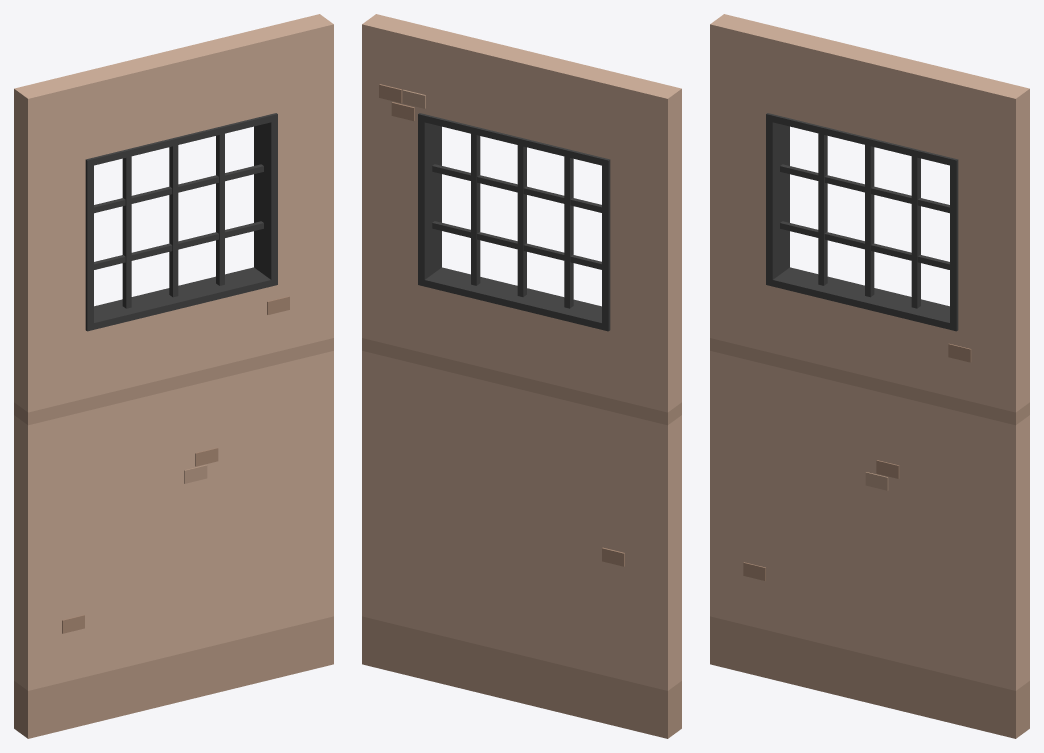
The model's file is Wall_03.fbx.
3 renders of one model, left to right at view 1: azimuth 30°, elevation 25°; view 2: azimuth 150°, elevation 25°; view 3: azimuth 330°, elevation 25°, orthographic.
Parts seen in each view (by area): view 1: Wall_03; view 2: Wall_03; view 3: Wall_03.
Boxes of the visible parts, x1,y1,x2,y2 form: Wall_03: [14, 14, 333, 738]; Wall_03: [362, 14, 681, 738]; Wall_03: [710, 14, 1029, 738].
Size of the model in its own units: 500 by 1000 by 48.82.
